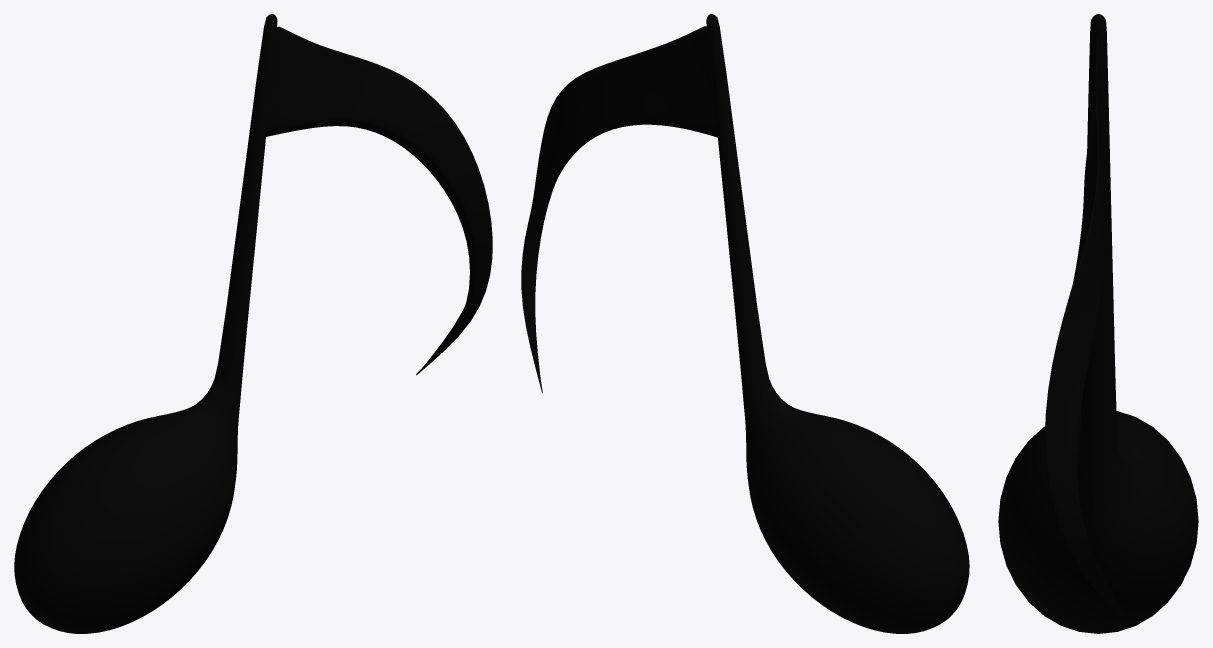
File: Onpu 1.fbx
3 renders of one model, left to right at view 1: azimuth 30°, elevation 25°; view 2: azimuth 150°, elevation 25°; view 3: azimuth 270°, elevation 25°, orthographic. The views are drawn at different scales.
Parts seen in each view (by area): view 1: ONPU; view 2: ONPU; view 3: ONPU.
Part boxes in pixels (x1,y1,x2,y2): ONPU: (14, 14, 492, 633); ONPU: (521, 14, 969, 633); ONPU: (998, 14, 1198, 633).
Size of the model in its own units: 509 by 614 by 156.
Materials: 1 (1 with a texture image).
